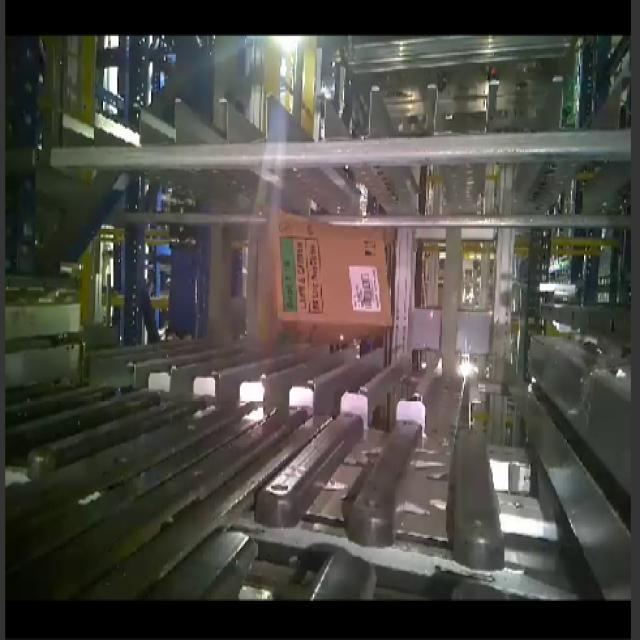box: (267, 213, 400, 328)
